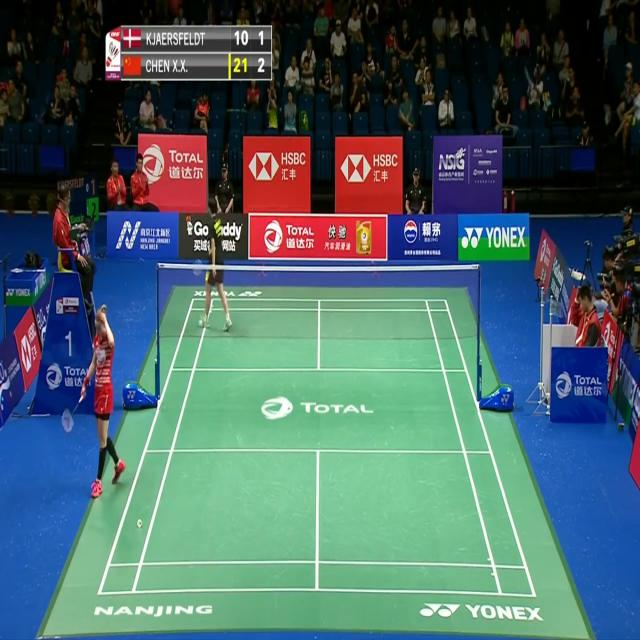Player1: (72, 301, 132, 504)
Player2: (195, 194, 237, 340)
